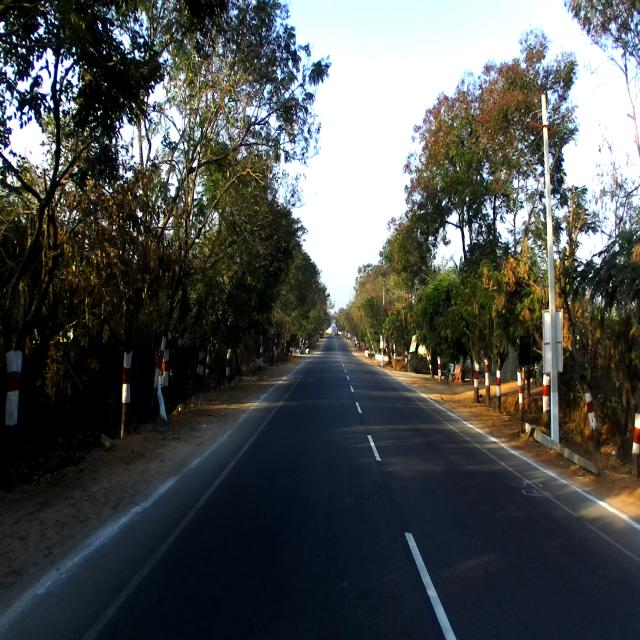electric pole ahead at: (526, 88, 561, 448)
tree ahead at: (1, 327, 32, 502), (116, 301, 143, 448)
